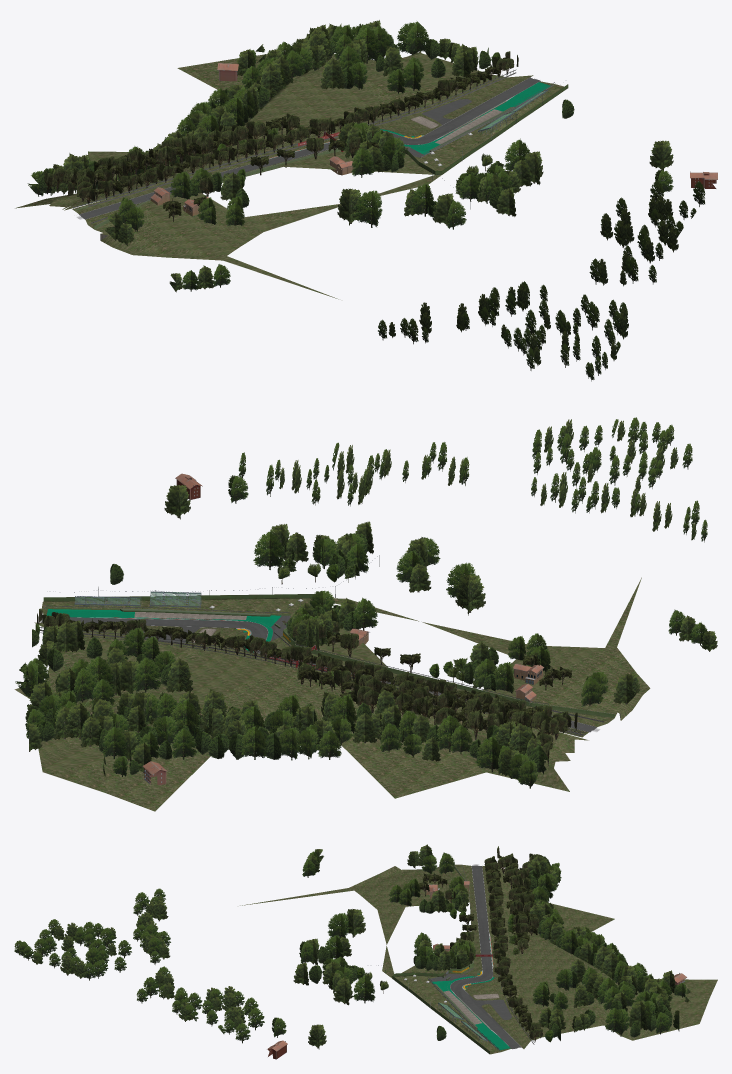
3 views of the same model, one above another, from view 1: azimuth 30°, elevation 25°; view 2: azimuth 150°, elevation 25°; view 3: azimuth 270°, elevation 25° (orthographic). The views are drawn at different scales.
Visible parts, largest first — view 1: tile_t11; view 2: tile_t11; view 3: tile_t11.
Part boxes in pixels (left/top/right/bottom): tile_t11: left=15, top=20, right=717, bottom=381; tile_t11: left=14, top=417, right=717, bottom=811; tile_t11: left=14, top=844, right=717, bottom=1059.
Bounding box in the file's own units: 455 × 51.88 × 660.
30 materials, 30 textured.
